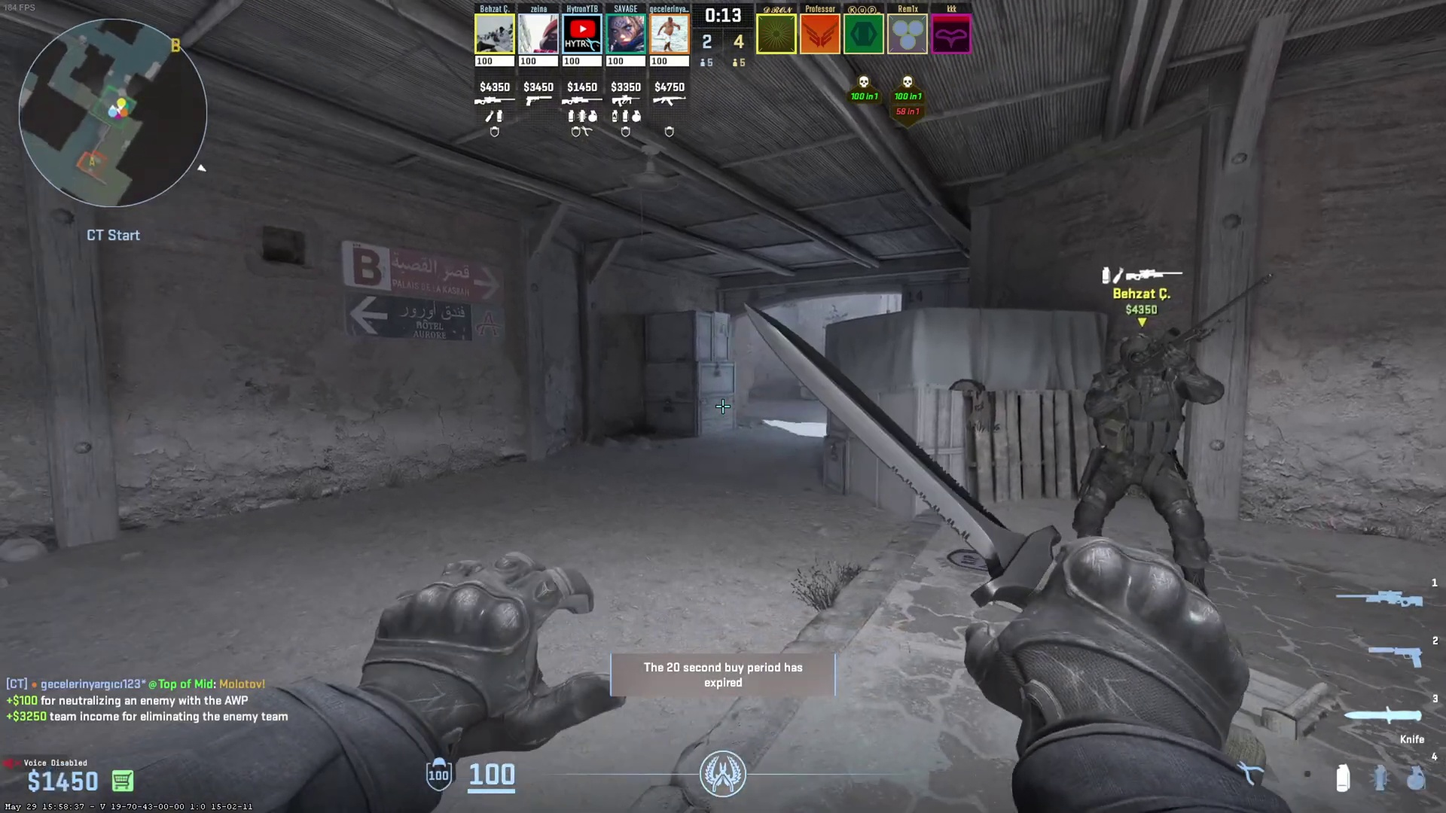CT: (1076, 333, 1207, 536)
